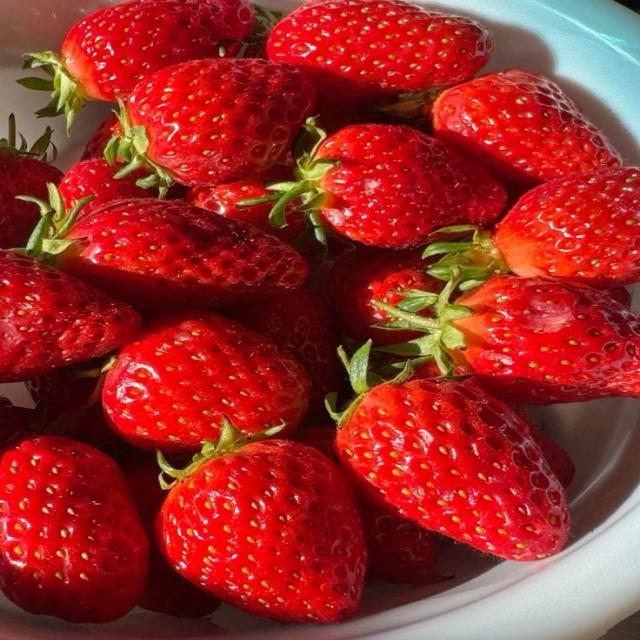strawberry: (336, 350, 568, 560), (158, 434, 366, 623), (380, 276, 639, 404), (20, 0, 253, 127), (103, 311, 310, 452), (274, 124, 506, 248), (57, 199, 308, 309), (0, 436, 148, 622), (113, 59, 315, 186), (267, 0, 492, 112), (453, 276, 639, 404), (429, 70, 620, 192), (0, 251, 139, 382), (493, 168, 639, 287), (124, 455, 219, 617), (223, 290, 342, 413), (329, 247, 443, 345), (27, 359, 129, 460), (186, 165, 306, 243), (0, 116, 61, 248), (362, 501, 442, 585), (361, 500, 441, 584), (59, 159, 157, 215), (512, 404, 575, 487), (532, 427, 575, 487), (81, 113, 122, 161), (81, 113, 121, 160), (0, 398, 36, 448), (290, 424, 338, 461), (603, 286, 632, 309)
